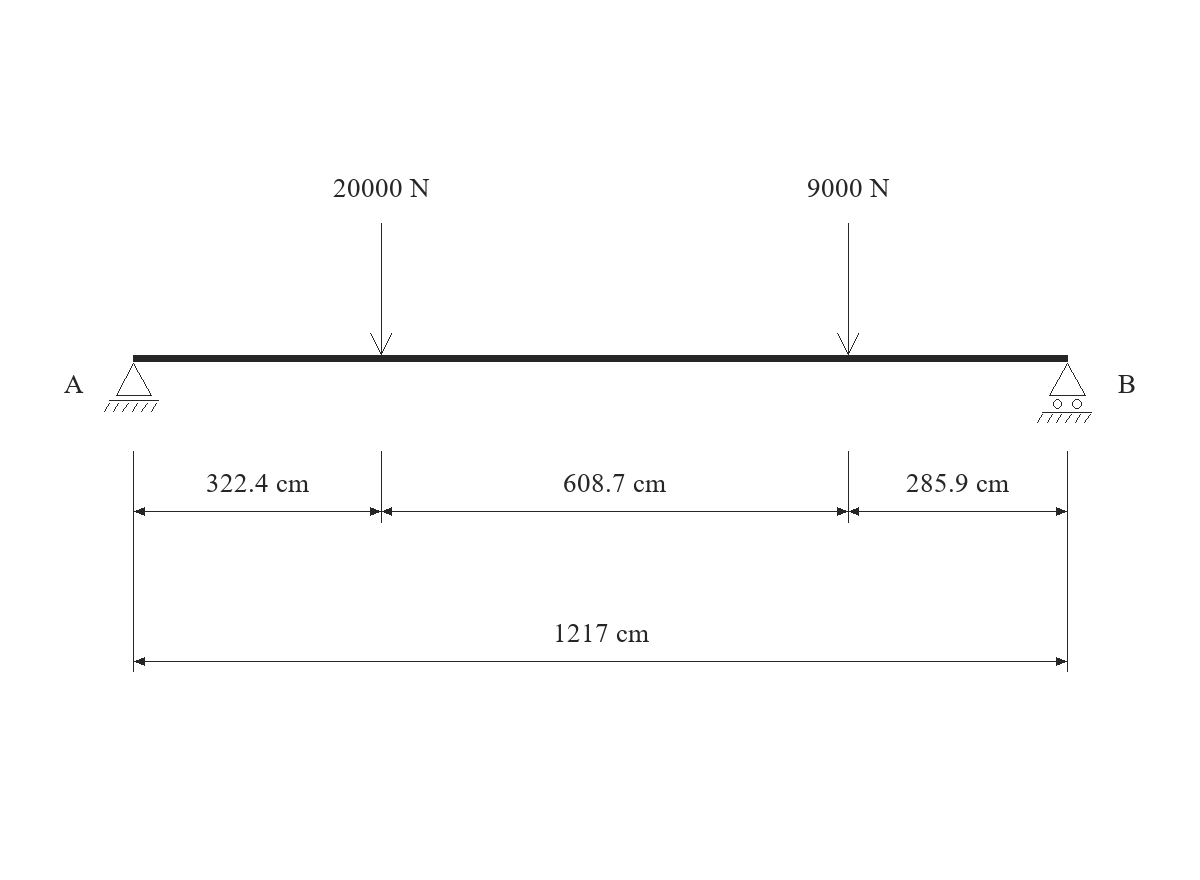pin_support: (104, 363, 159, 412)
point_load: (370, 223, 392, 355), (837, 223, 859, 355)
roller_support: (1037, 363, 1092, 423)
